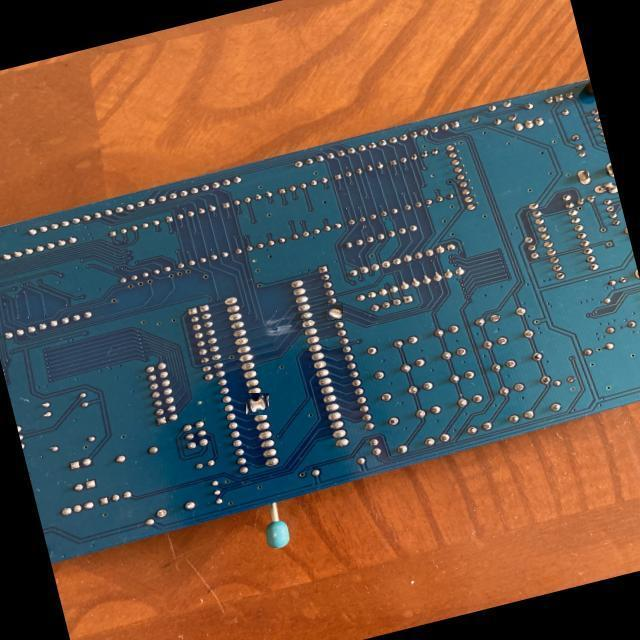damged: (246, 393, 269, 415), (328, 304, 343, 320)
